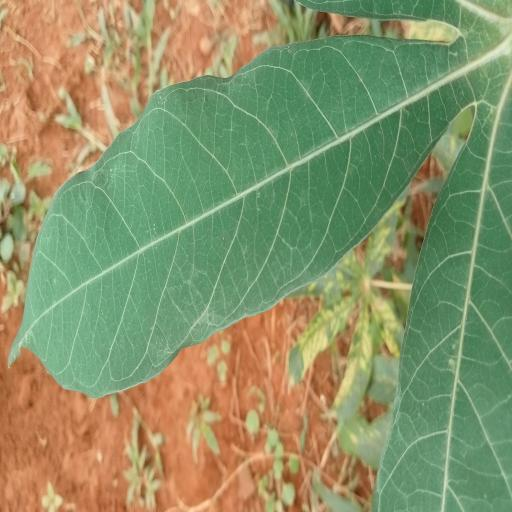Cassava_Healthy: (10, 0, 512, 509)
